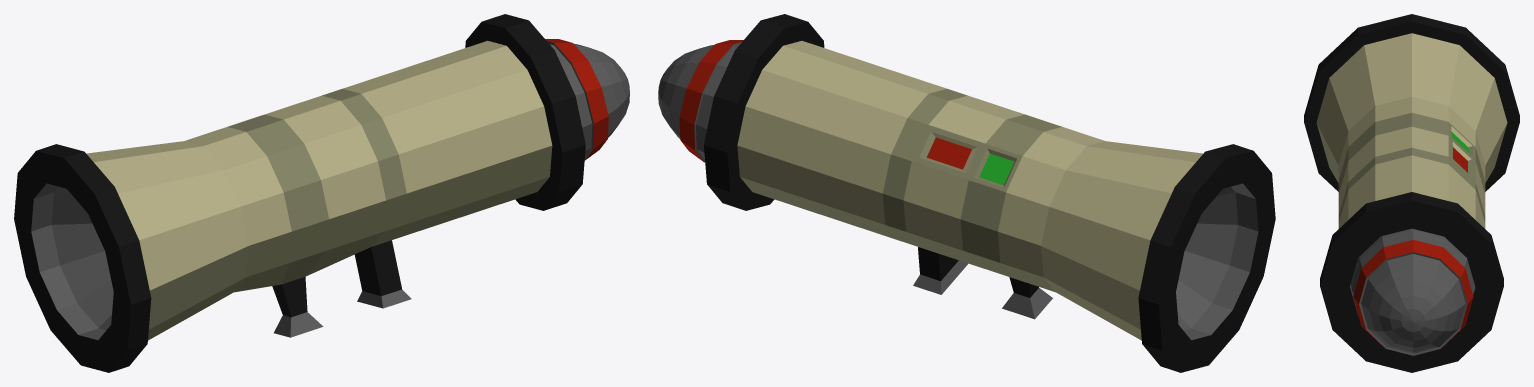
File: AnimationMilitarCañon.fbx
3 renders of one model, left to right at view 1: azimuth 30°, elevation 25°; view 2: azimuth 150°, elevation 25°; view 3: azimuth 270°, elevation 25°, orthographic. The views are drawn at different scales.
Parts seen in each view (by area): view 1: Cylinder.001; view 2: Cylinder.001; view 3: Cylinder.001.
Boxes of the visible parts, left/top/right/bottom form: Cylinder.001: left=14, top=14, right=629, bottom=372; Cylinder.001: left=658, top=14, right=1275, bottom=372; Cylinder.001: left=1304, top=14, right=1519, bottom=372.
Bounding box in the file's own units: 323 × 133 × 116.
